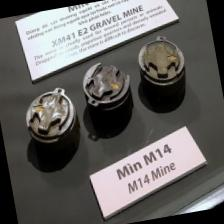M14: (75, 57, 139, 134), (18, 84, 84, 158), (131, 33, 192, 109)
